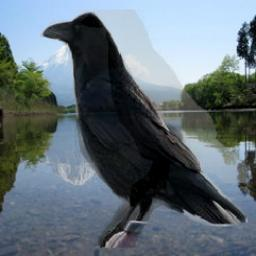Crow: (41, 9, 249, 248)
